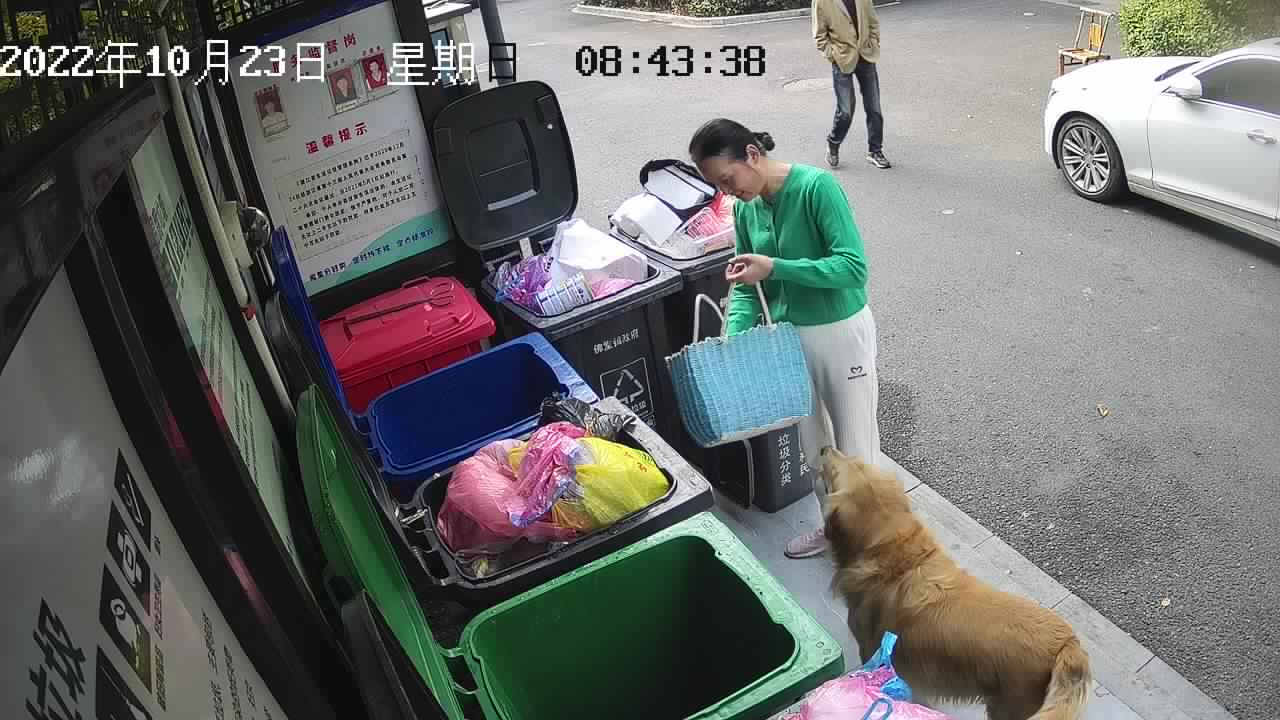bumingwu: (803, 441, 1097, 720)
person: (687, 115, 886, 567)
